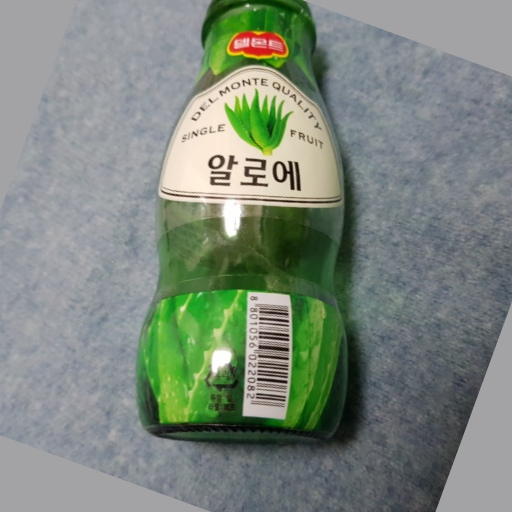Glass_4: (143, 3, 353, 453)
